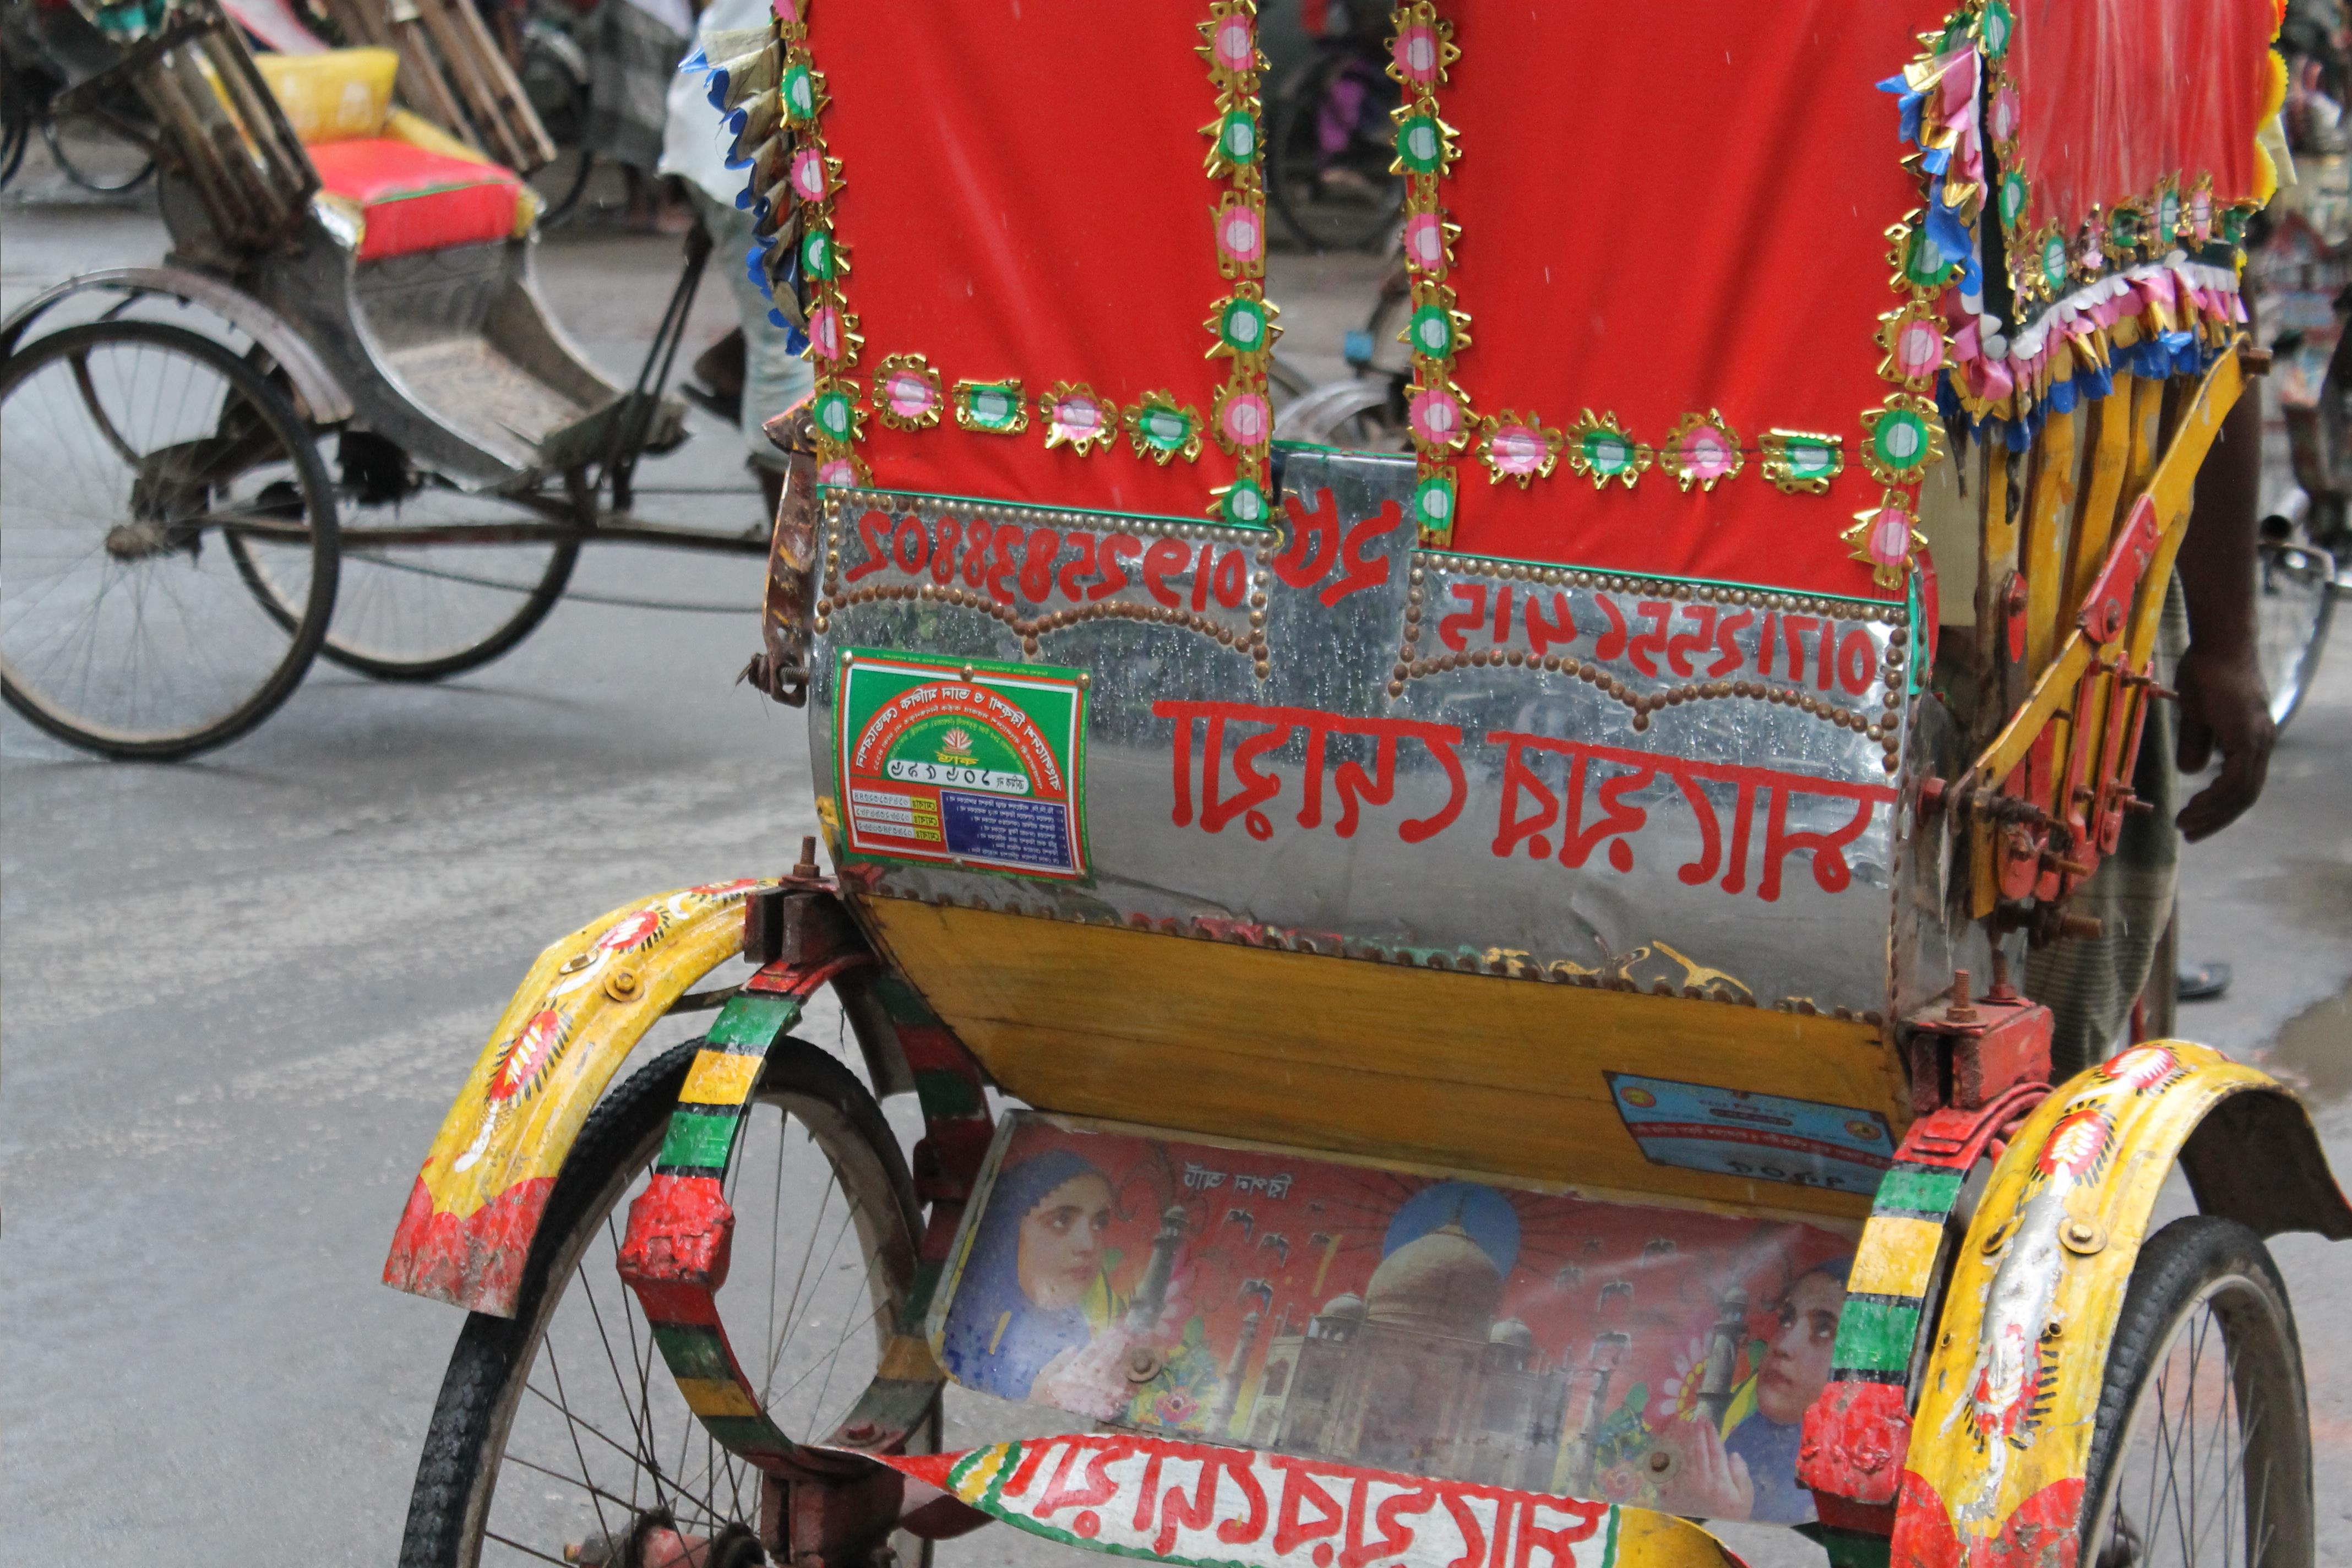Rickshaw: (556, 3, 2319, 1564), (19, 5, 700, 681)
